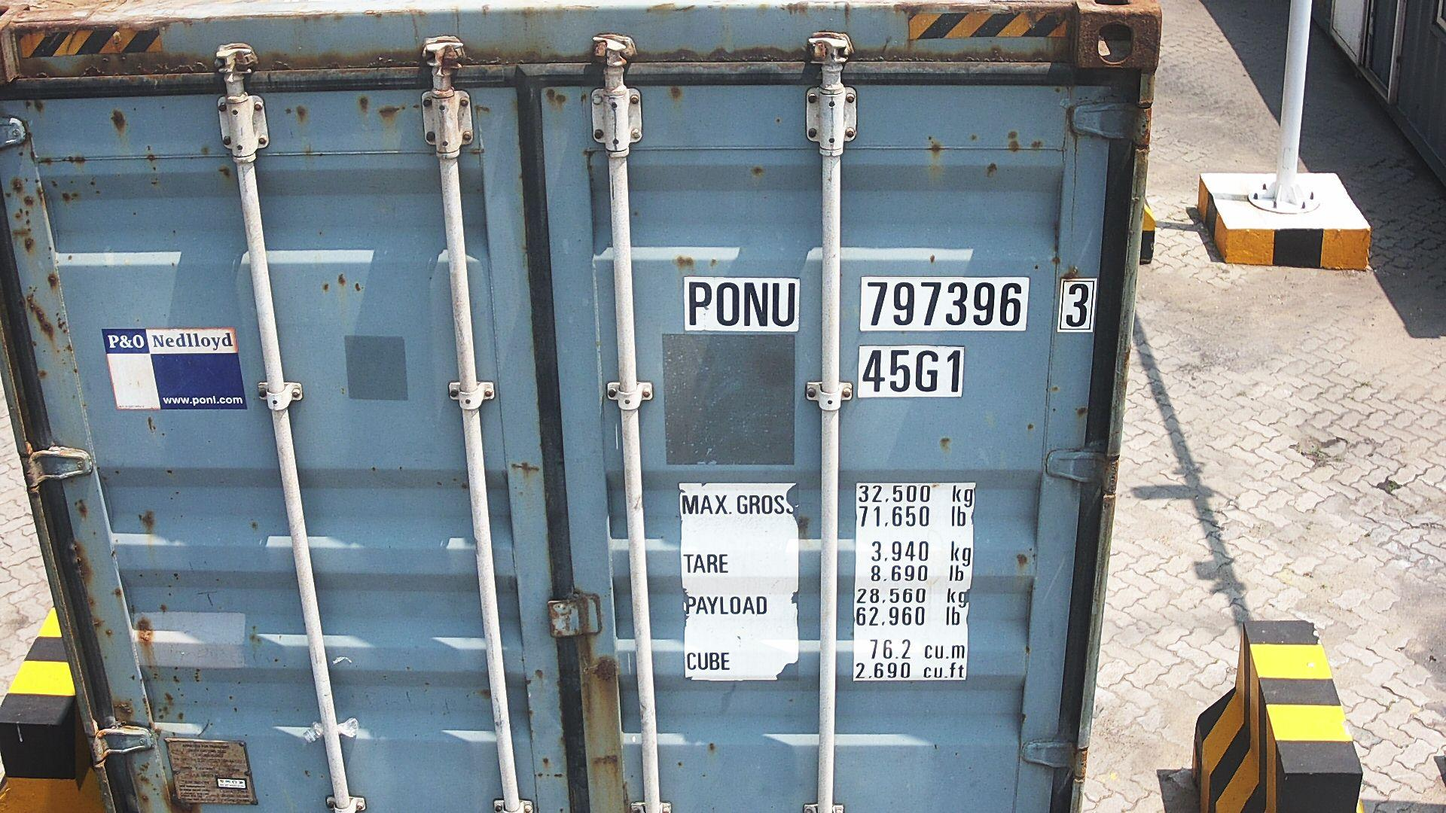container-numbers: (680, 276, 1101, 336), (853, 343, 972, 398)
